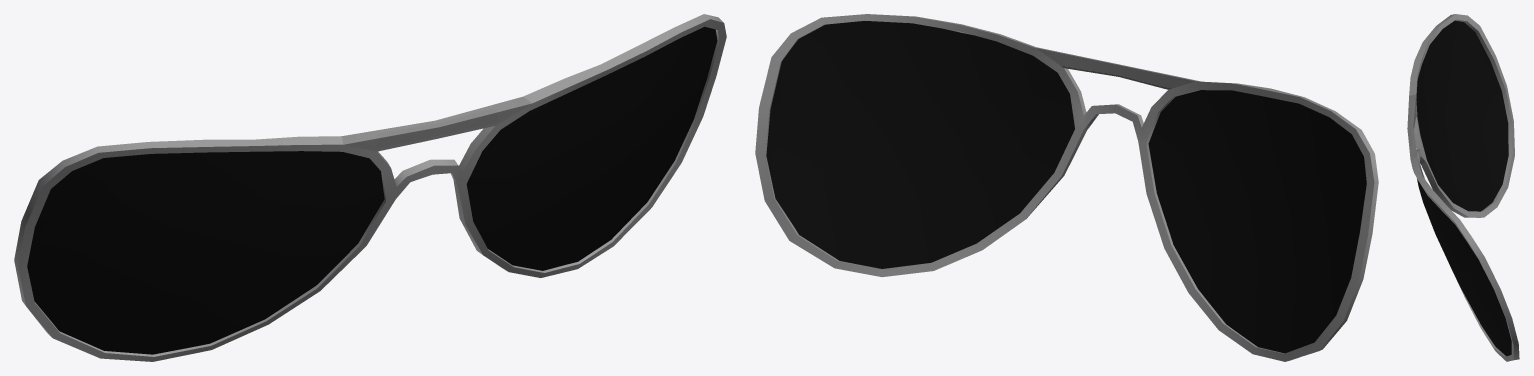
File: pm0359_00_Rig.fbx
The picture shows the model from 3 angles, left to right: view 1: azimuth 30°, elevation 25°; view 2: azimuth 150°, elevation 25°; view 3: azimuth 270°, elevation 25°; orthographic projection. The views are drawn at different scales.
Visible parts, largest first — view 1: doodad_fashionweek_2022_sunglasses; view 2: doodad_fashionweek_2022_sunglasses; view 3: doodad_fashionweek_2022_sunglasses.
Boxes of the visible parts, left/top/right/bottom form: doodad_fashionweek_2022_sunglasses: left=14, top=14, right=726, bottom=361; doodad_fashionweek_2022_sunglasses: left=755, top=14, right=1378, bottom=361; doodad_fashionweek_2022_sunglasses: left=1407, top=14, right=1519, bottom=361.
Bounding box in the file's own units: 0.1901 × 0.0713 × 0.0409.
